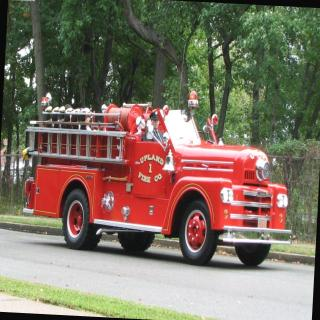Fire_truck: (16, 82, 300, 270)
